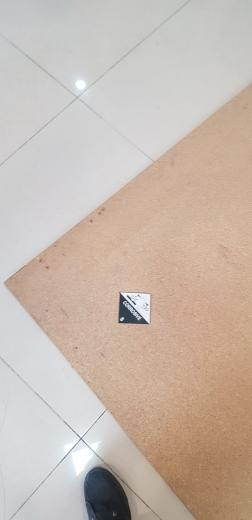Corrosive: (118, 292, 150, 324)
